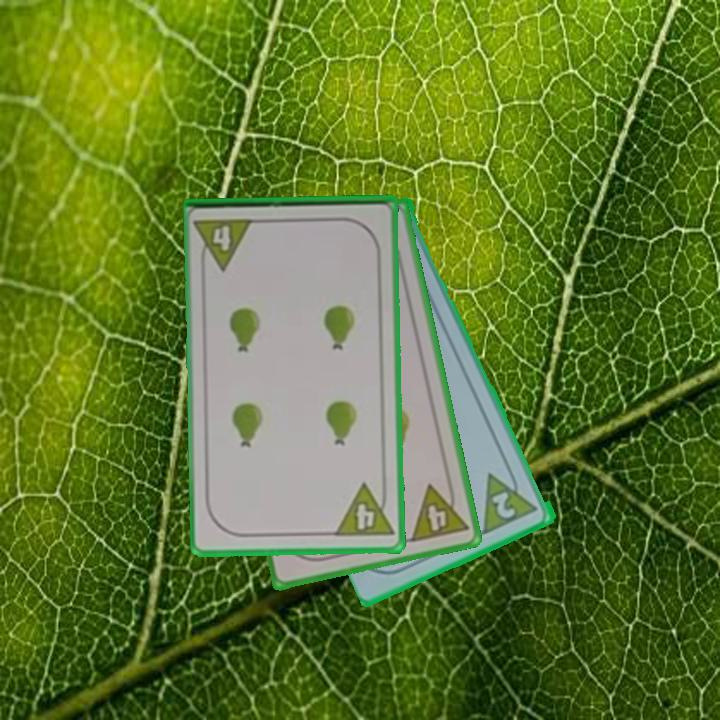2p: (480, 462, 542, 537)
4p: (407, 477, 471, 545), (331, 480, 396, 541), (192, 215, 258, 273)
